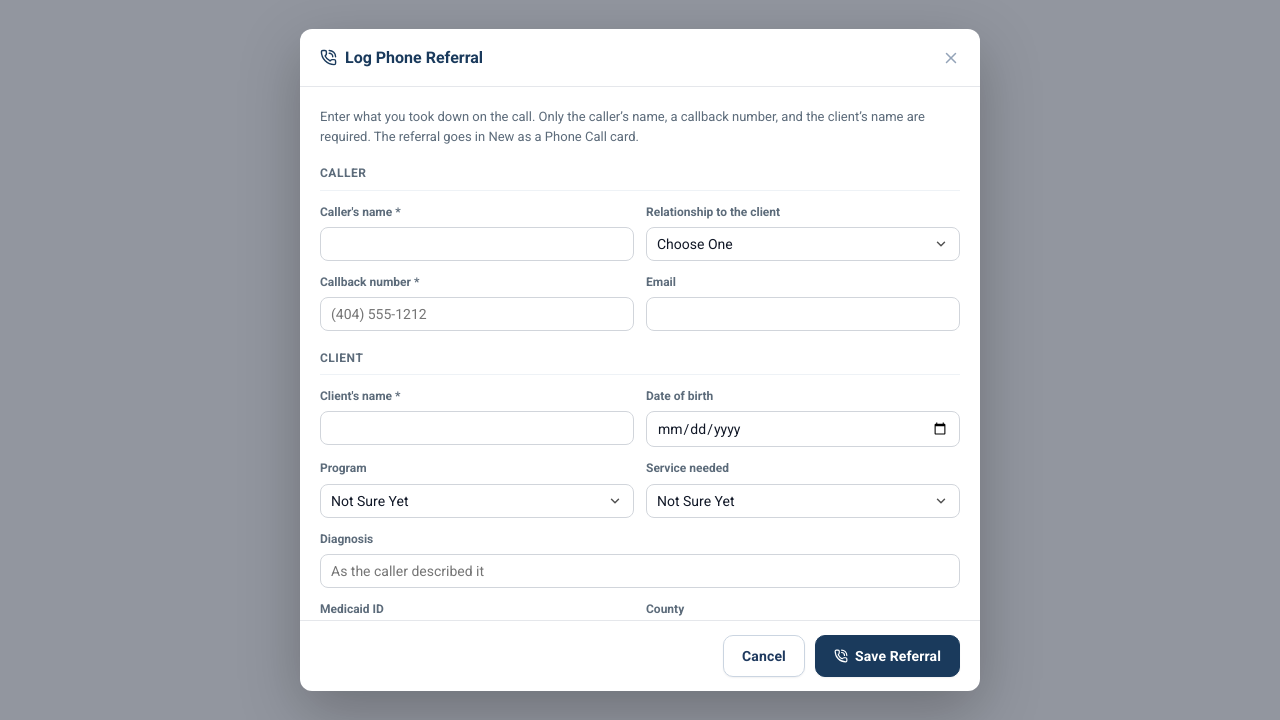
blocks an empty save and names each required field
This screenshot has width=1280, height=720.
Click the button "Save Referral" at (888, 656), box [815, 635, 960, 677]
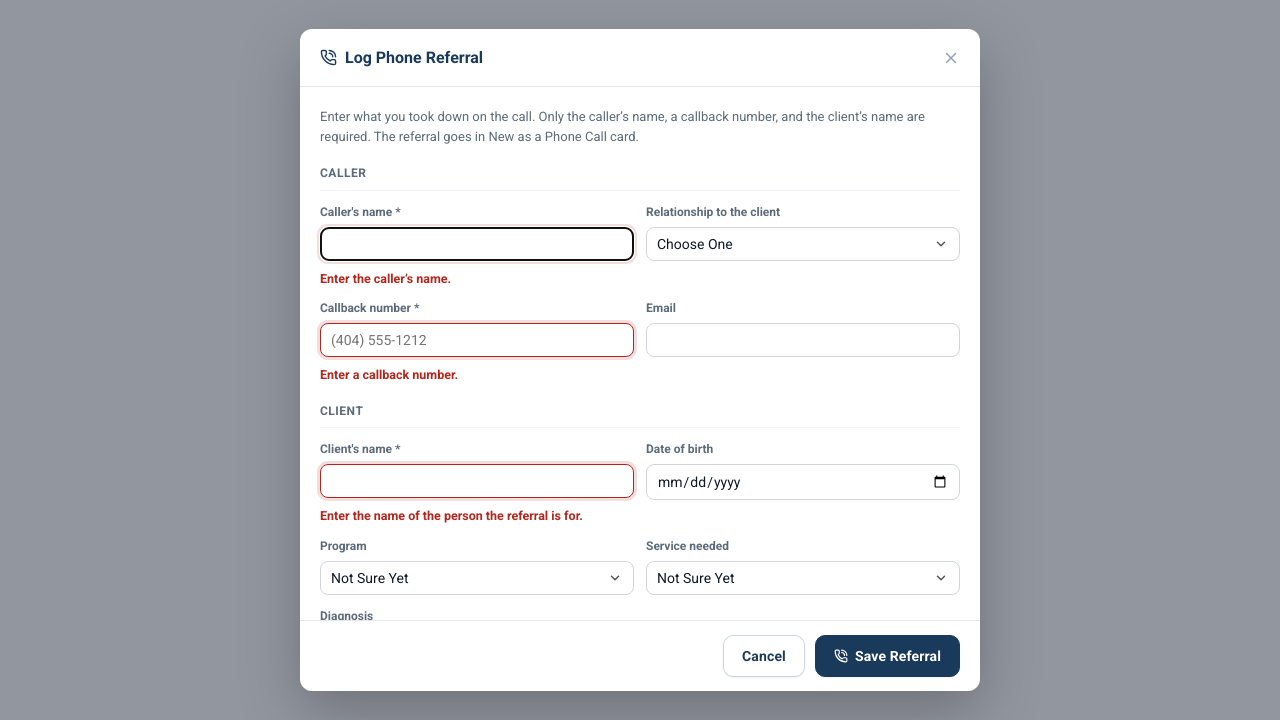
Check: the text "Enter the caller’s name." is shown, box [320, 271, 451, 286]
Check: the text "Enter a callback number." is shown, box [320, 368, 458, 382]
Check: the text "Enter the name of the person the referral is for." is shown, box [320, 508, 583, 523]
